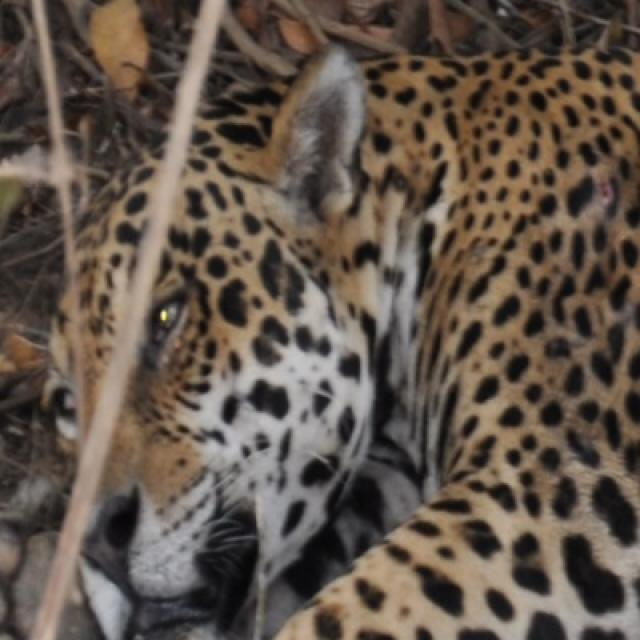Jaguar: (48, 41, 638, 638)
